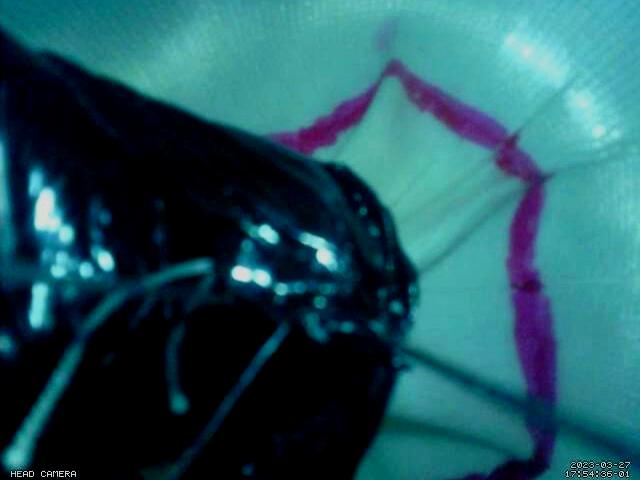red-circle: (266, 57, 559, 480)
